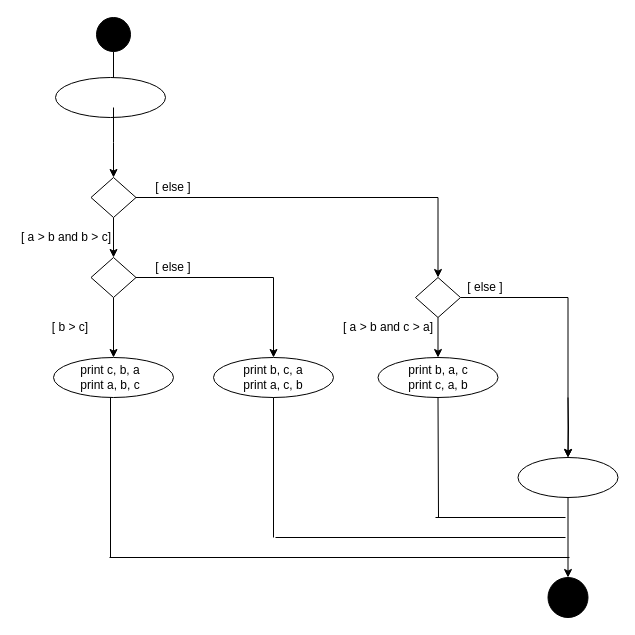
This 635x635 diagram has some shape labels left out. The shapes that lost their labels are listed below. From the top down, each one's centre as x and y in pixels, then its label:
the point at 110,97: Ввод a, b, c
the point at 567,477: print a , b, c print c, b, a
